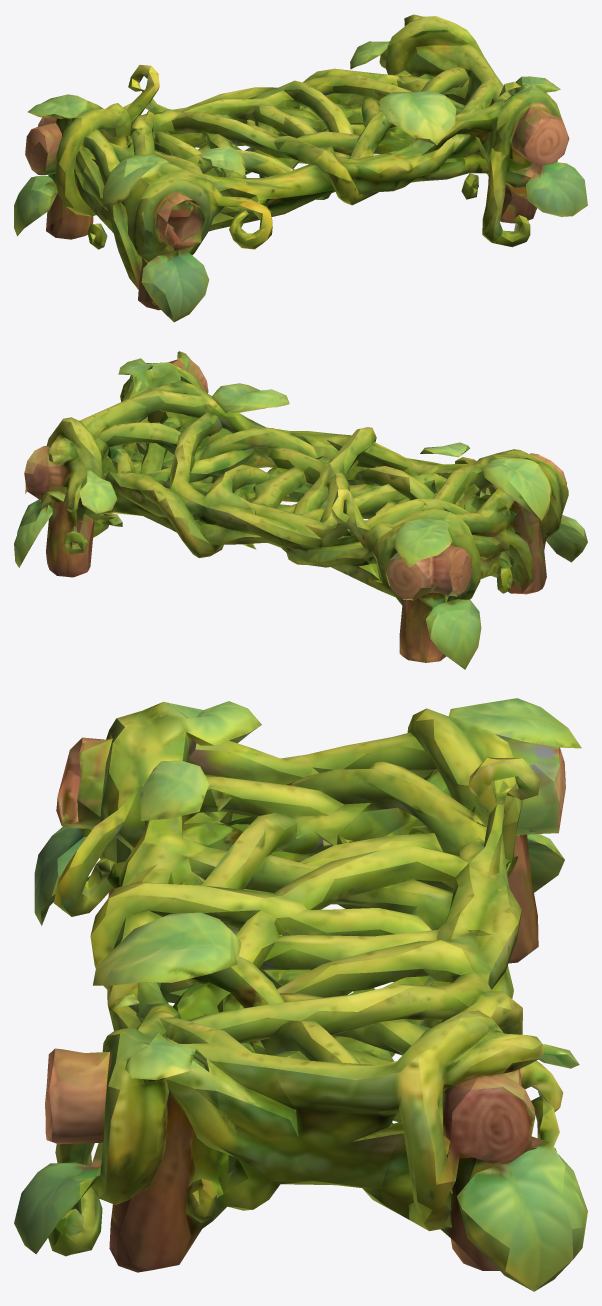
3 renders of one model, top to bottom at view 1: azimuth 30°, elevation 25°; view 2: azimuth 150°, elevation 25°; view 3: azimuth 270°, elevation 25°, orthographic. The views are drawn at different scales.
Parts seen in each view (by area): view 1: geometry_0; view 2: geometry_0; view 3: geometry_0.
Part boxes in pixels (left/top/right/bottom): geometry_0: left=14, top=14, right=587, bottom=322; geometry_0: left=14, top=351, right=587, bottom=669; geometry_0: left=14, top=698, right=587, bottom=1291.
Size of the model in its own units: 1.8 by 0.5931 by 1.1.
1 material, 1 textured.
